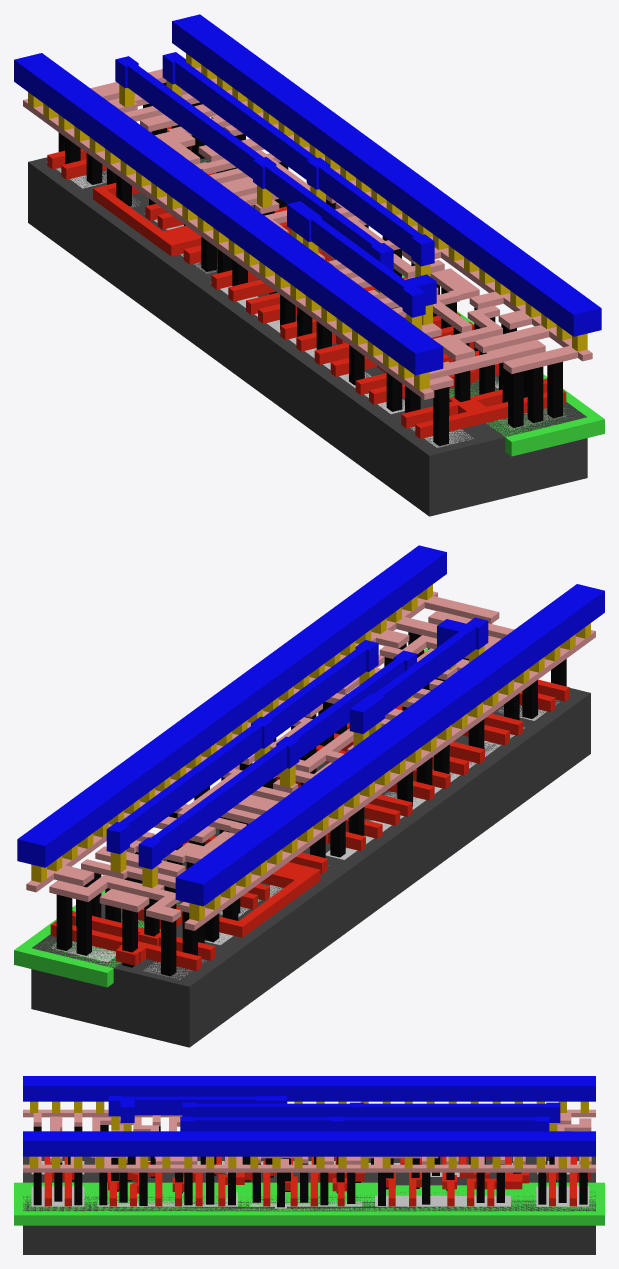
The model's file is sky130_fd_sc_hd__sdfrtp_2.obj.
The picture shows the model from 3 angles, top to bottom: view 1: azimuth 30°, elevation 25°; view 2: azimuth 150°, elevation 25°; view 3: azimuth 270°, elevation 25°; orthographic projection. The views are drawn at different scales.
Visible parts, largest first — view 1: metal1, subs, li, poly, licon, mcon, nwell, diff; view 2: metal1, subs, li, poly, licon, mcon, nwell, diff; view 3: metal1, subs, nwell, li, licon, poly, mcon, tap, diff.
Boxes of the visible parts, x1=… form: metal1: x1=14, y1=14, x2=601, y2=375; subs: x1=28, y1=150, x2=587, y2=516; li: x1=23, y1=67, x2=592, y2=399; poly: x1=47, y1=126, x2=566, y2=438; licon: x1=58, y1=82, x2=562, y2=445; mcon: x1=28, y1=53, x2=587, y2=390; nwell: x1=201, y1=160, x2=604, y2=456; diff: x1=56, y1=167, x2=473, y2=447; metal1: x1=17, y1=545, x2=604, y2=906; subs: x1=31, y1=688, x2=590, y2=1047; li: x1=26, y1=591, x2=595, y2=930; poly: x1=50, y1=652, x2=569, y2=971; licon: x1=56, y1=632, x2=566, y2=976; mcon: x1=31, y1=584, x2=590, y2=921; nwell: x1=14, y1=648, x2=428, y2=987; diff: x1=143, y1=700, x2=559, y2=979; metal1: x1=23, y1=1076, x2=595, y2=1156; subs: x1=23, y1=1156, x2=595, y2=1254; nwell: x1=14, y1=1182, x2=604, y2=1225; li: x1=23, y1=1109, x2=595, y2=1172; licon: x1=33, y1=1125, x2=588, y2=1207; poly: x1=44, y1=1156, x2=590, y2=1206; mcon: x1=30, y1=1101, x2=588, y2=1168; tap: x1=31, y1=1186, x2=589, y2=1208; diff: x1=31, y1=1161, x2=579, y2=1176.
Bounding box in the file's own units: 3.2 × 2.74 × 12.34.
